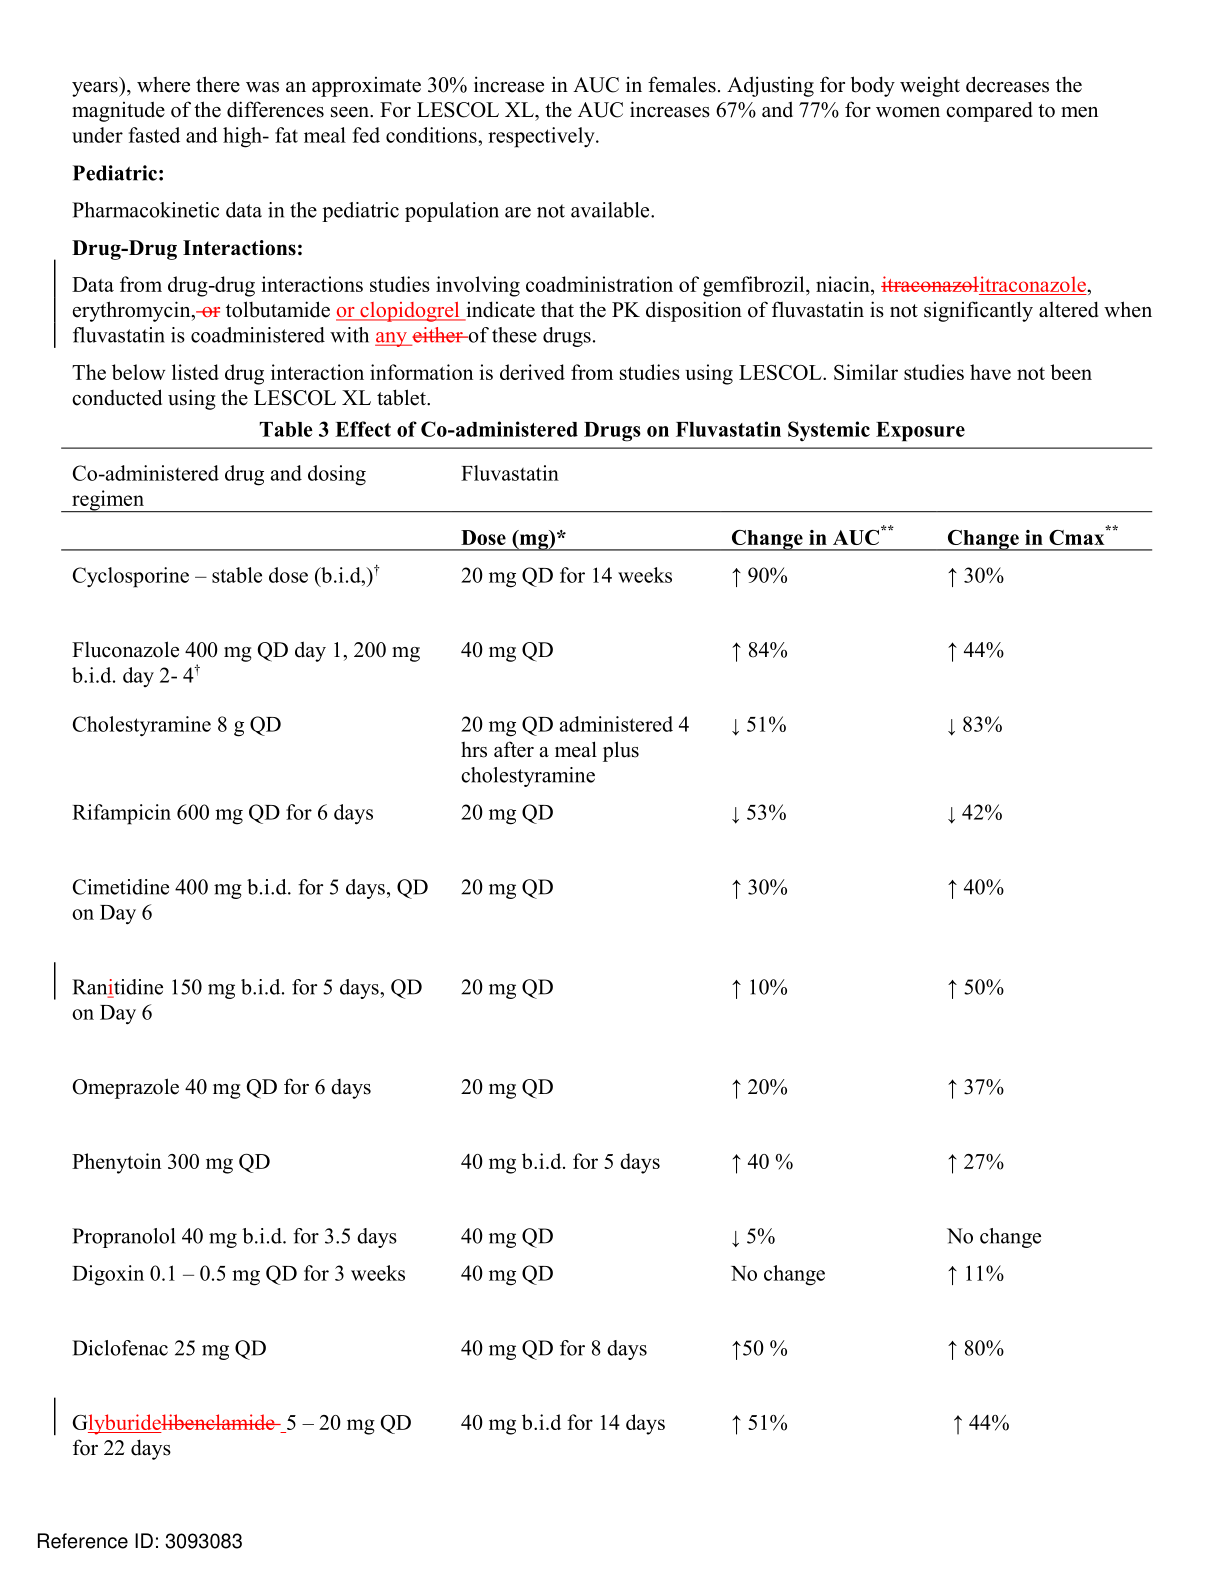partial_lined: (59, 445, 1151, 1464)
